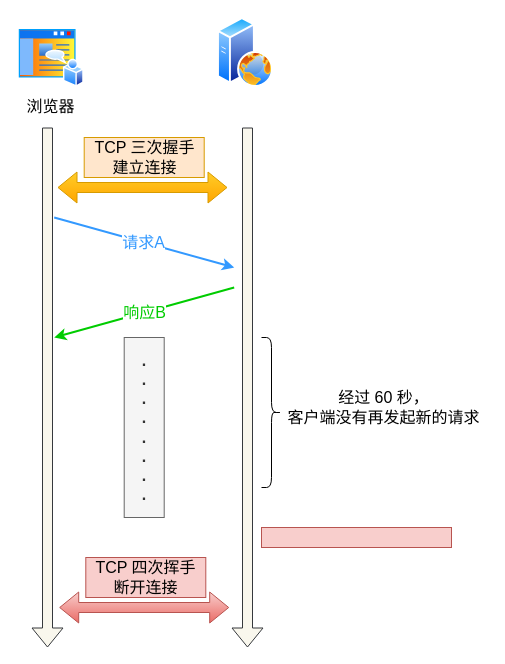
Image size: 505x664. Some labels were removed from this diagram. Each missing label, with the box of its shape:
于是服务端主动断开连接: (260, 526, 452, 548)
服务器: (217, 17, 273, 87)
